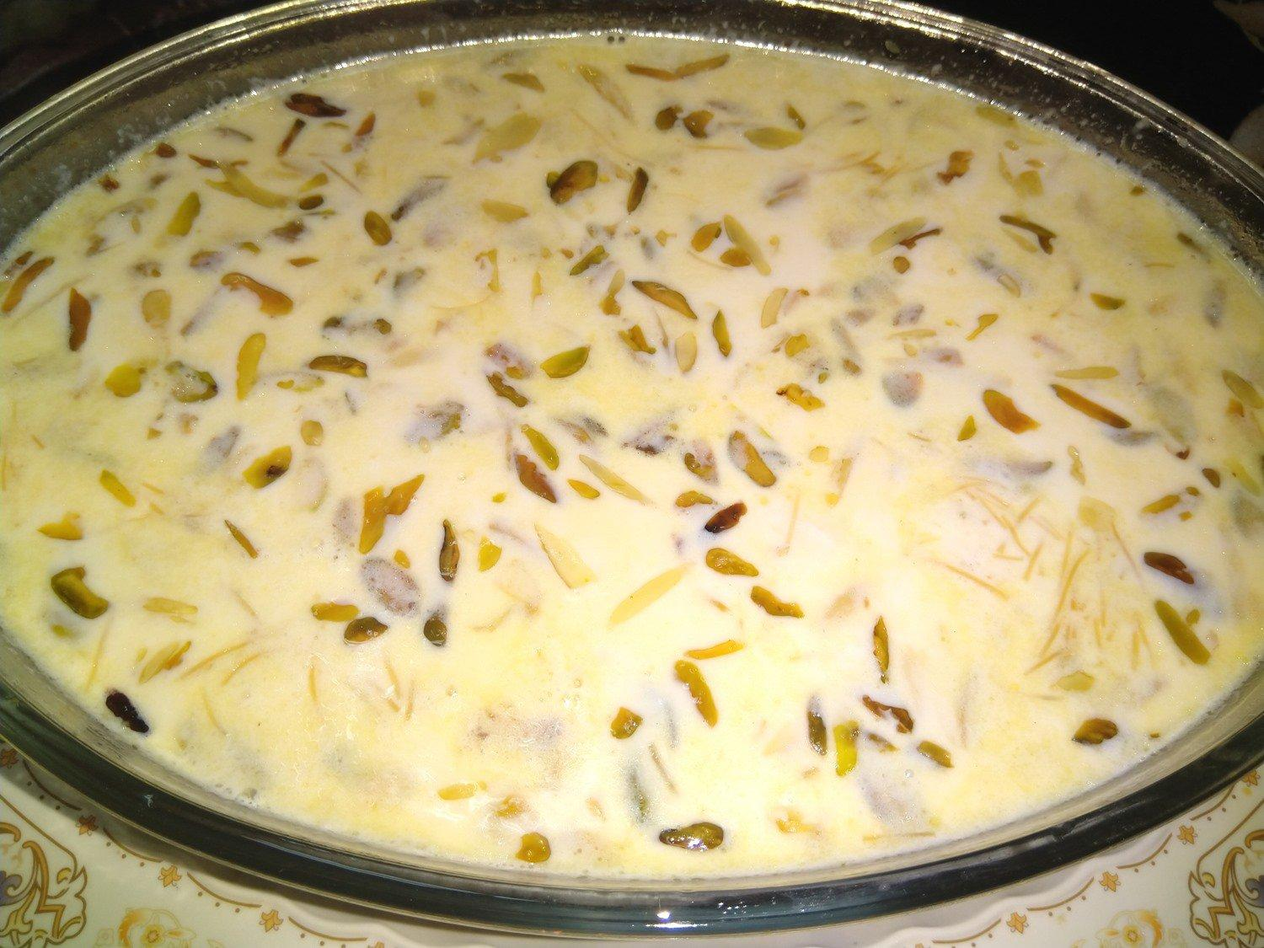kheer: (2, 2, 1264, 924)
